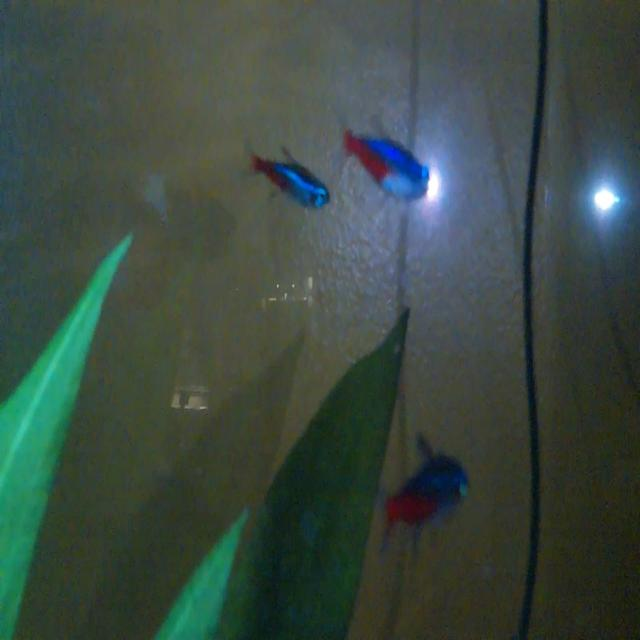fish: (362, 425, 472, 549), (333, 105, 440, 214), (233, 124, 334, 222)
